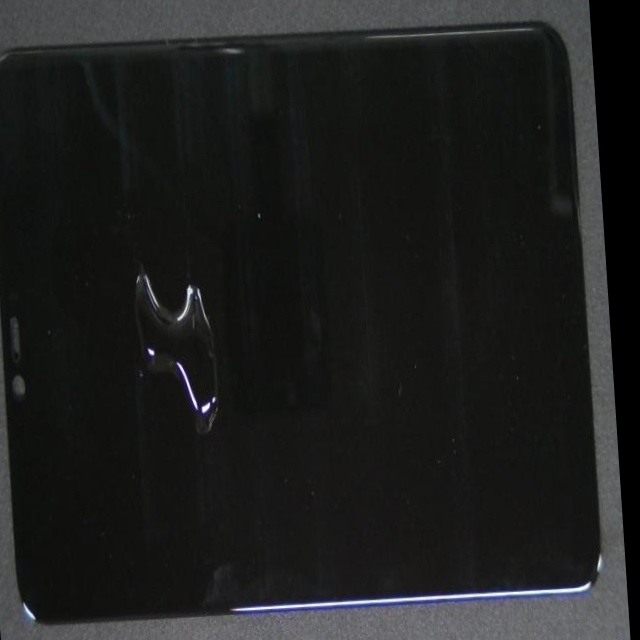oil: (59, 125, 301, 614)
